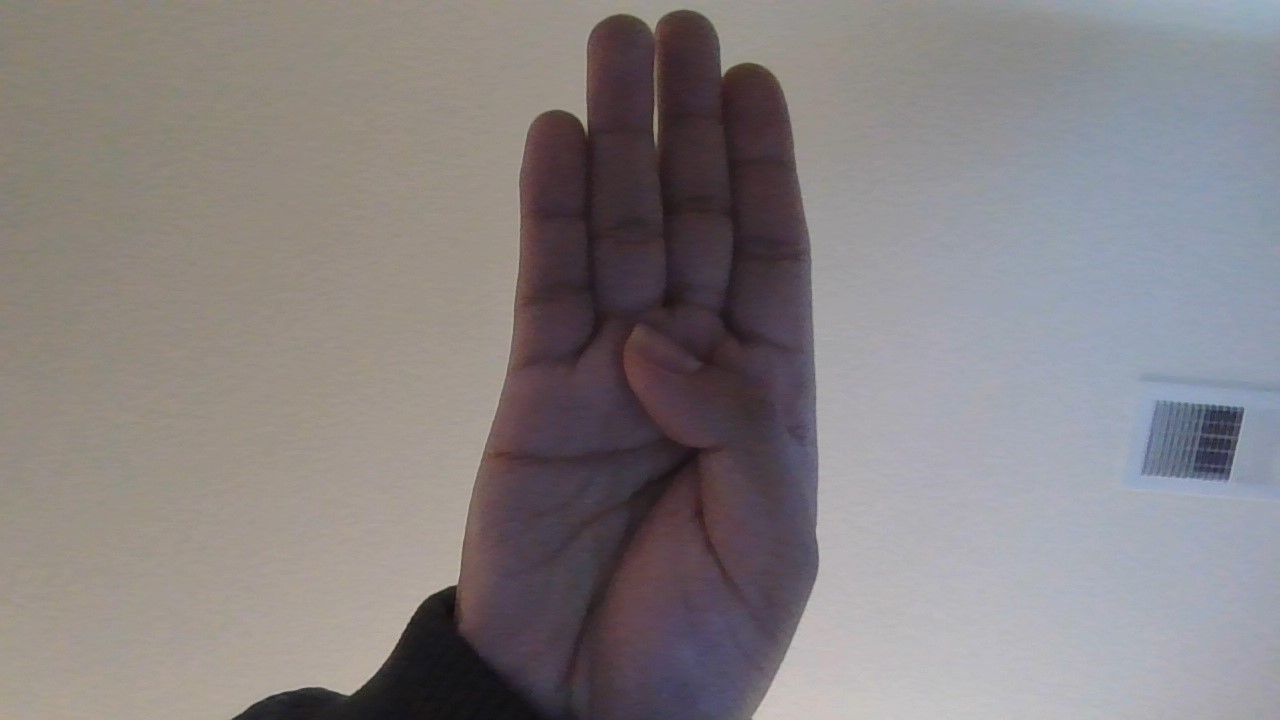b: (451, 23, 852, 710)
